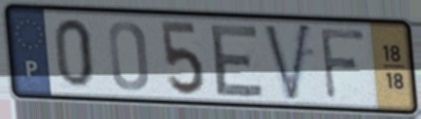0: (52, 16, 100, 92), (106, 19, 152, 93)
5: (158, 18, 207, 98)
E: (209, 22, 268, 99)
F: (317, 26, 368, 103)
V: (260, 20, 314, 106)
